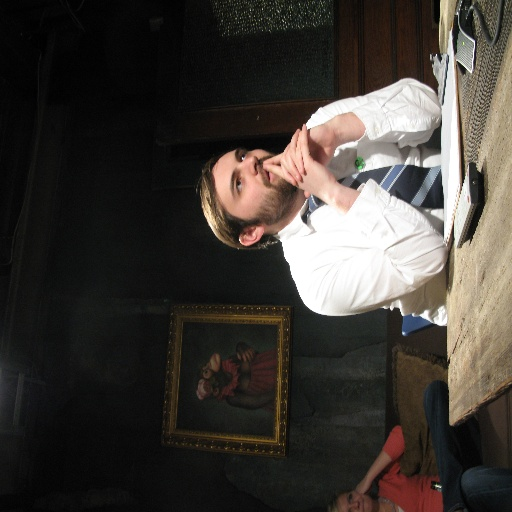hand: (263, 125, 335, 198), (355, 479, 371, 495)
